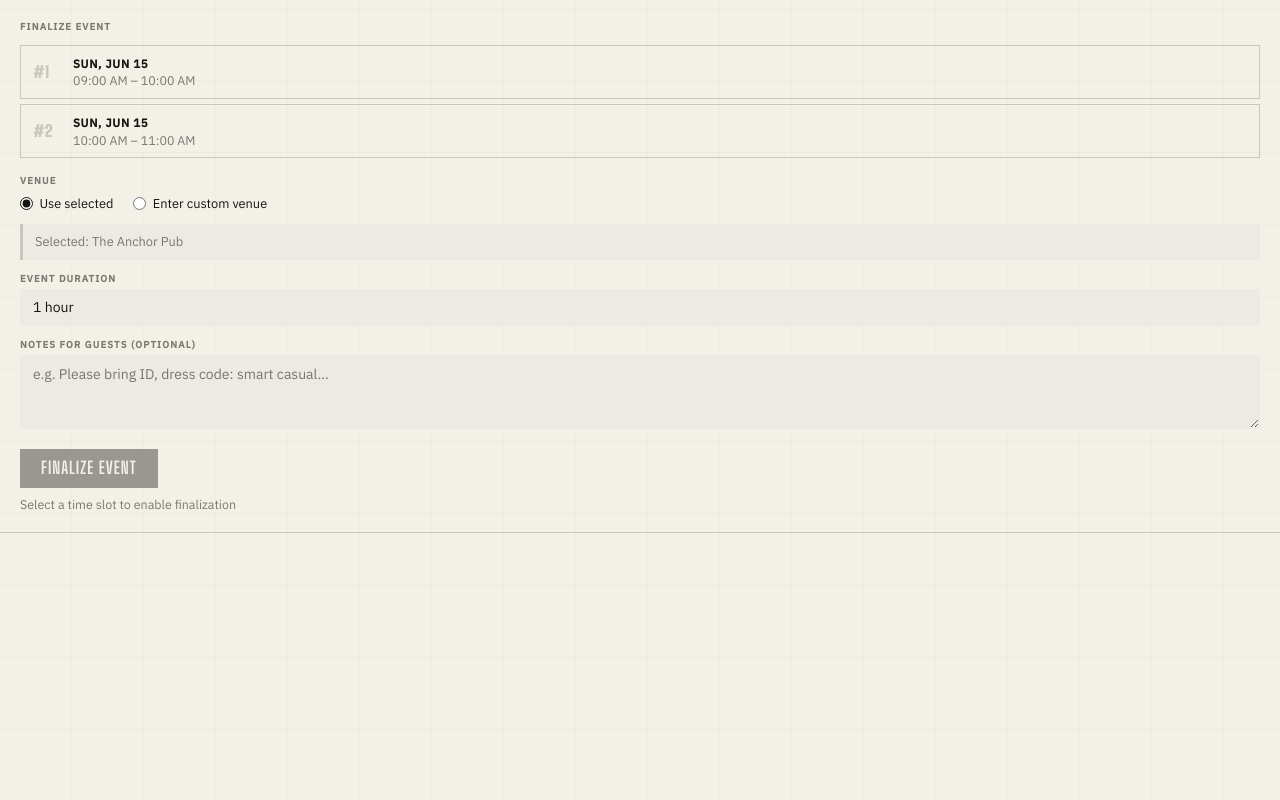
Test: FinalizePanel › confirmation modal shows the selected venue name
Click the button with test id "slot-card-slot-1". click: (111, 63)
box: [20,45,1260,99]
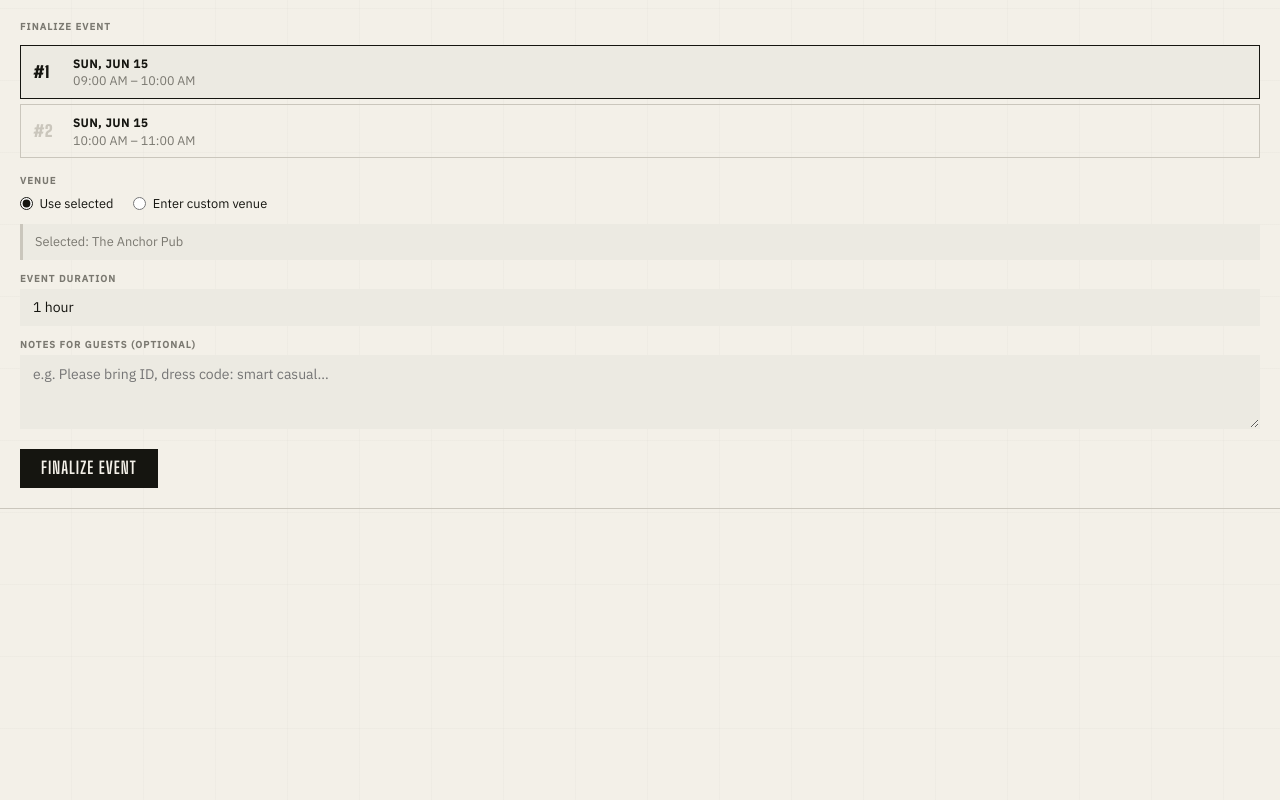
Click the button with test id "finalize-btn". click: (89, 469)
box: [20,449,158,488]
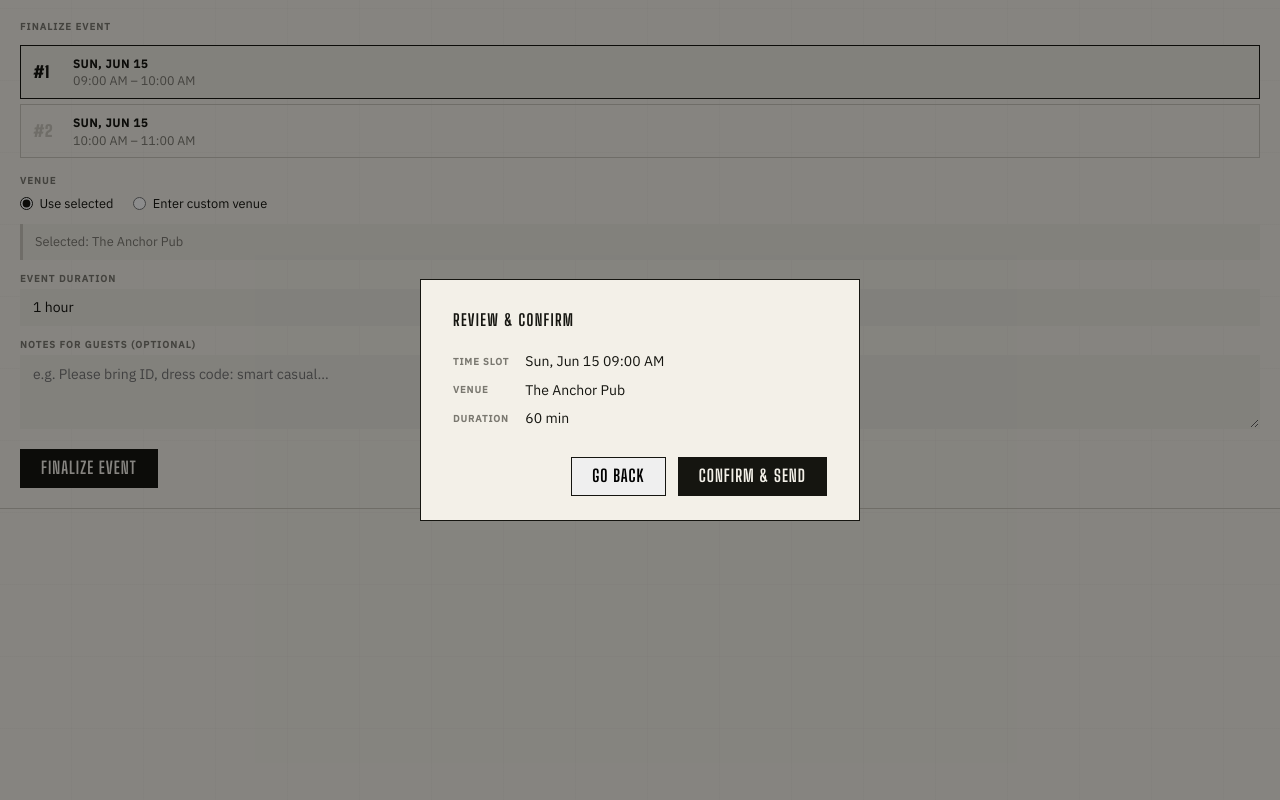
Now the dialog with test id "finalize-confirm-modal" shows "The Anchor Pub", box [525,381,625,399]
